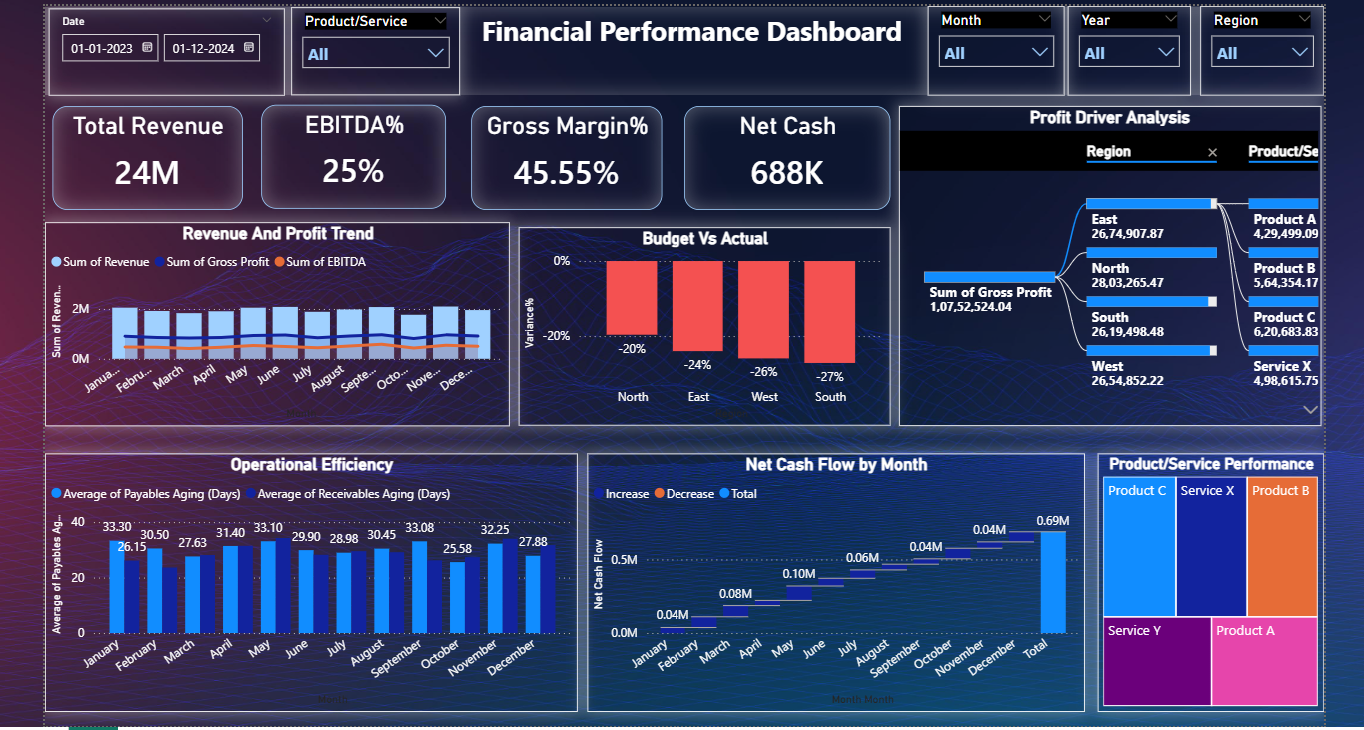

The dashboard page shown, as its layout file describes it:
{"tool":"powerbi","page":{"name":"Page 1","canvas":[1280,720],"ordinal":0},"visuals":[{"type":"textbox","box":[415,1.2,451.2,88.8],"z":0},{"type":"lineChart","title":"Revenue And Profit Trend","fields":{"Y":["Sum(Data.Revenue)"],"Y2":["Sum(Data.Gross Profit)"],"Category":["Data.Month.Variation.Date Hierarchy.Month"]},"box":[0,216.4,441.4,203],"z":1000},{"type":"slicer","fields":{"Values":["Data.Region"]},"box":[1155.6,0,124.4,89.6],"z":2000},{"type":"treemap","title":" Product/Service Performance","fields":{"Values":["Sum(Data.Revenue)"],"Group":["Data.Product/Service"]},"box":[1011.2,447.5,268.8,258.8],"z":3000},{"type":"lineClusteredColumnComboChart","title":"Operational Efficiency","fields":{"Category":["Data.Payables Group"],"Y2":["Sum(Data.Revenue)"],"Y":["Sum(Data.Payables Aging (Days))","Sum(Data.Receivables Aging (Days))"]},"box":[0,447.5,502.5,258.8],"z":4000},{"type":"slicer","fields":{"Values":["Data.Month"]},"box":[3.7,2.5,236.4,87.1],"z":5000},{"type":"slicer","fields":{"Values":["Data.Product/Service"]},"box":[246.3,1.2,169.2,88.3],"z":6000},{"type":"slicer","fields":{"Values":["Data.Month.Variation.Date Hierarchy.Year"]},"box":[1023.8,0,123.2,89.6],"z":7000},{"type":"slicer","fields":{"Values":["Data.Month.Variation.Date Hierarchy.Month"]},"box":[883.2,0,136.8,89.6],"z":8000},{"type":"cardVisual","title":"Total Revenue","fields":{"Data":["Sum(Data.Revenue)"]},"box":[7.5,100,190,103.8],"z":9000},{"type":"cardVisual","title":"EBITDA%","fields":{"Data":["Data.EBITDA%"]},"box":[216.2,98.8,185,103.8],"z":10000},{"type":"cardVisual","title":"Gross Margin%","fields":{"Data":["Data.Gross Margin%"]},"box":[436.6,100.3,190.8,103.9],"z":11000},{"type":"waterfallChart","title":"Net Cash Flow Data","fields":{"Y":["Data.Net Cash Waterfall"],"Category":["WaterfallTable.Category"]},"box":[521.2,447.5,466.2,258.8],"z":12000},{"type":"lineClusteredColumnComboChart","title":"Budget Vs Actual","fields":{"Y":["Sum(Data.Revenue)","Sum(Data.Revenue Budget)"],"Y2":["Data.Variance%"],"Category":["Data.Month.Variation.Date Hierarchy.Month"]},"box":[458.6,216.4,406,204.2],"z":13000},{"type":"pivotTable","title":"Profit Driver Analysis","fields":{"Rows":["Data.Region","Data.Month.Variation.Date Hierarchy.Month"],"Columns":["Data.Product/Service"],"Values":["Sum(Data.Gross Profit)"]},"box":[882.5,98.8,397.5,320],"z":14000},{"type":"cardVisual","title":"Net Cash","fields":{"Data":["Data.Net Cash"]},"box":[661.9,99.6,203.3,103.8],"z":15000}]}

Visuals, with their boxes on the page's 1280x720 design canvas (x1, y1, x2, y2). These are canvas units, not pixel positions in the 1364x730 screenshot, which may show the page scaled, cropped or inside an application window:
textbox: region(415, 1, 866, 90)
"Revenue And Profit Trend" lineChart: region(0, 216, 441, 419)
slicer - Data.Region: region(1156, 0, 1280, 90)
" Product/Service Performance" treemap: region(1011, 448, 1280, 706)
"Operational Efficiency" lineClusteredColumnComboChart: region(0, 448, 502, 706)
slicer - Data.Month: region(4, 2, 240, 90)
slicer - Data.Product/Service: region(246, 1, 416, 90)
slicer - Data.Month.Variation.Date Hierarchy.Year: region(1024, 0, 1147, 90)
slicer - Data.Month.Variation.Date Hierarchy.Month: region(883, 0, 1020, 90)
"Total Revenue" cardVisual: region(8, 100, 198, 204)
"EBITDA%" cardVisual: region(216, 99, 401, 203)
"Gross Margin%" cardVisual: region(437, 100, 627, 204)
"Net Cash Flow Data" waterfallChart: region(521, 448, 987, 706)
"Budget Vs Actual" lineClusteredColumnComboChart: region(459, 216, 865, 421)
"Profit Driver Analysis" pivotTable: region(882, 99, 1280, 419)
"Net Cash" cardVisual: region(662, 100, 865, 203)
